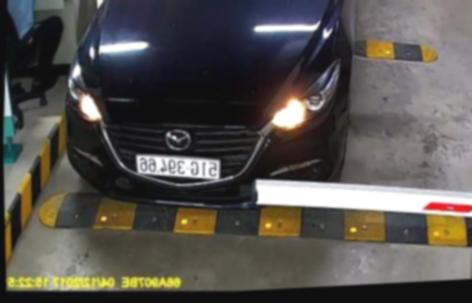License_Plate: (129, 146, 232, 190)
